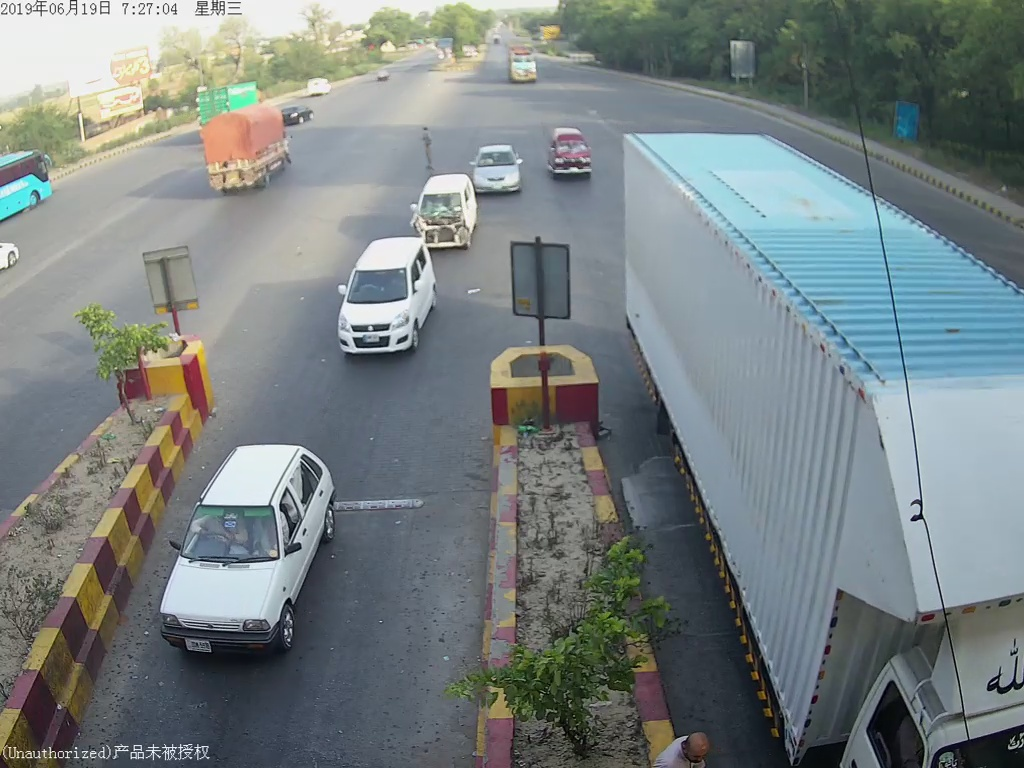Cat-1: (165, 438, 336, 674), (338, 238, 438, 353), (414, 171, 479, 248), (476, 138, 522, 198), (552, 126, 595, 181)
